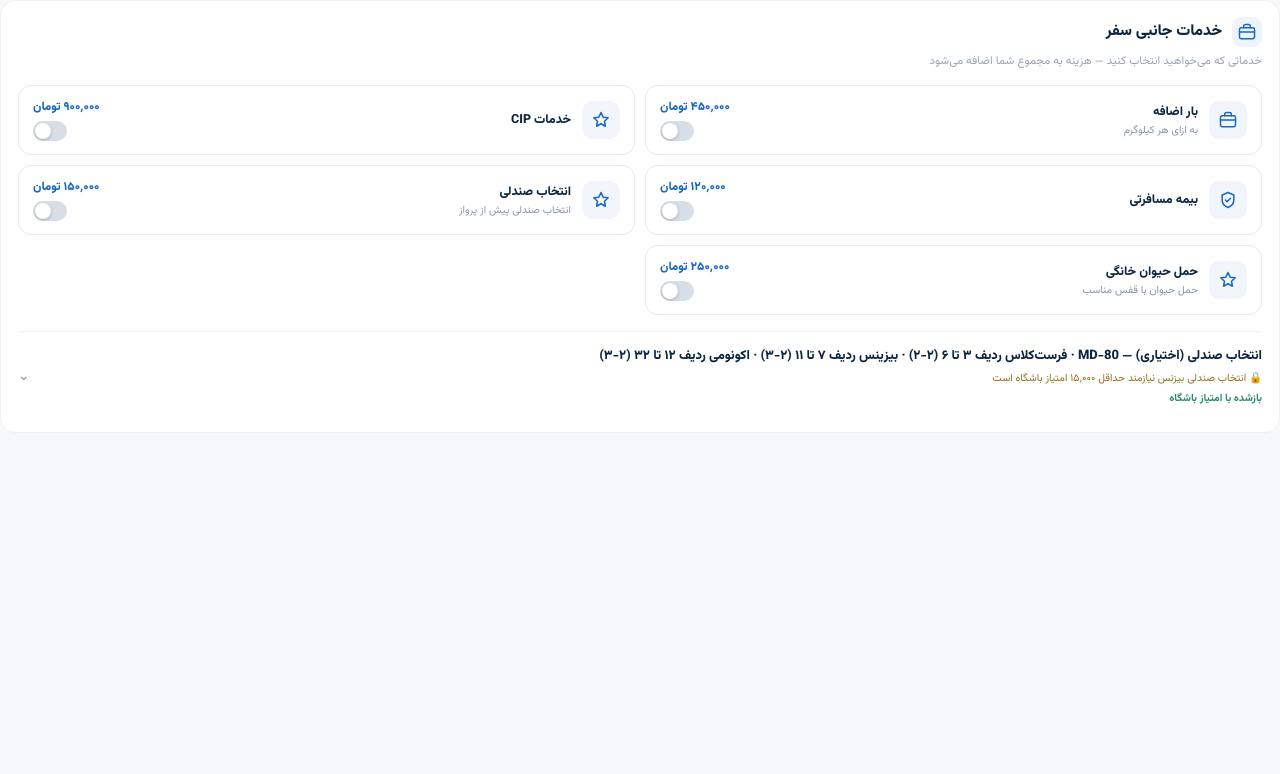
Test: ExtrasStep — design parity › renders the MD-80 aircraft seat chart from the PDF layout after opening it
Click the button with test id "checkout-seat-toggle": point(720, 356) [18, 347, 1262, 406]
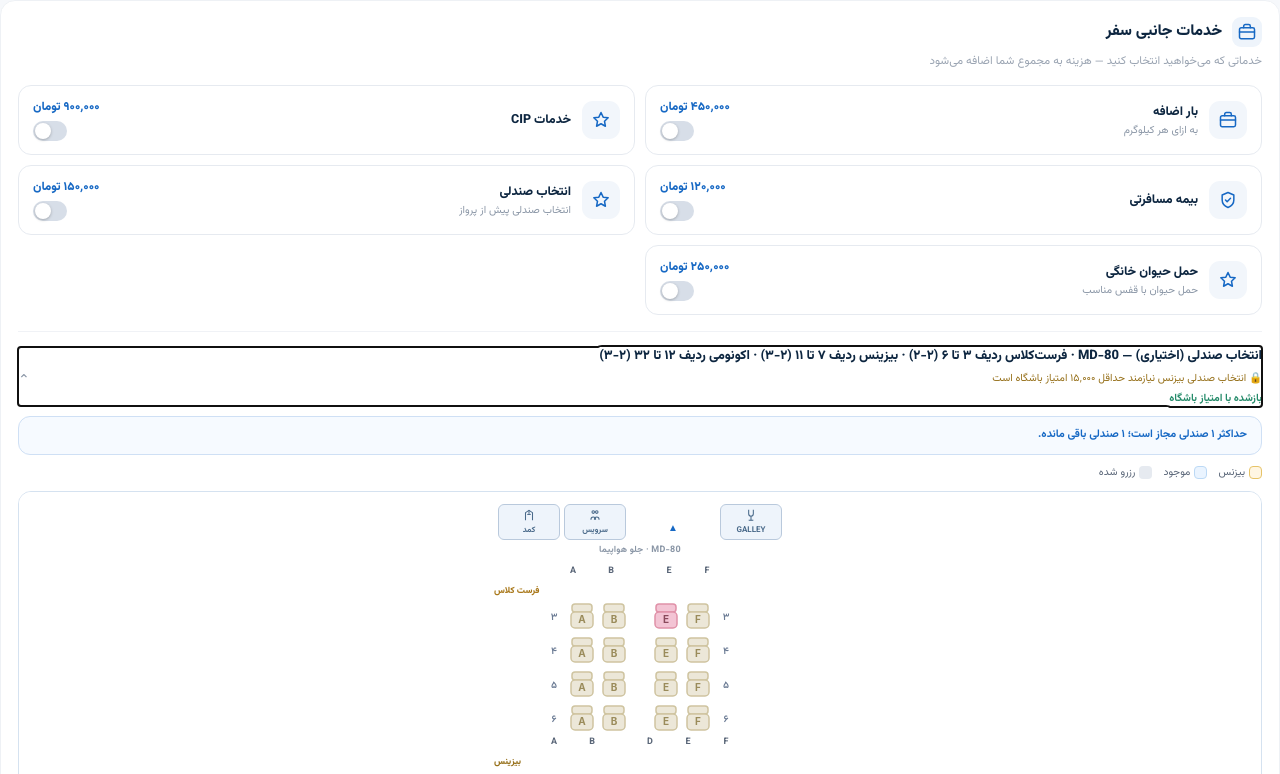
Check: the text "فرست کلاس" is shown, box [494, 584, 540, 598]
Check: the text "بیزینس" is shown, box [494, 754, 521, 768]
Check: the text "GALLEY" is shown, box [736, 524, 765, 536]
